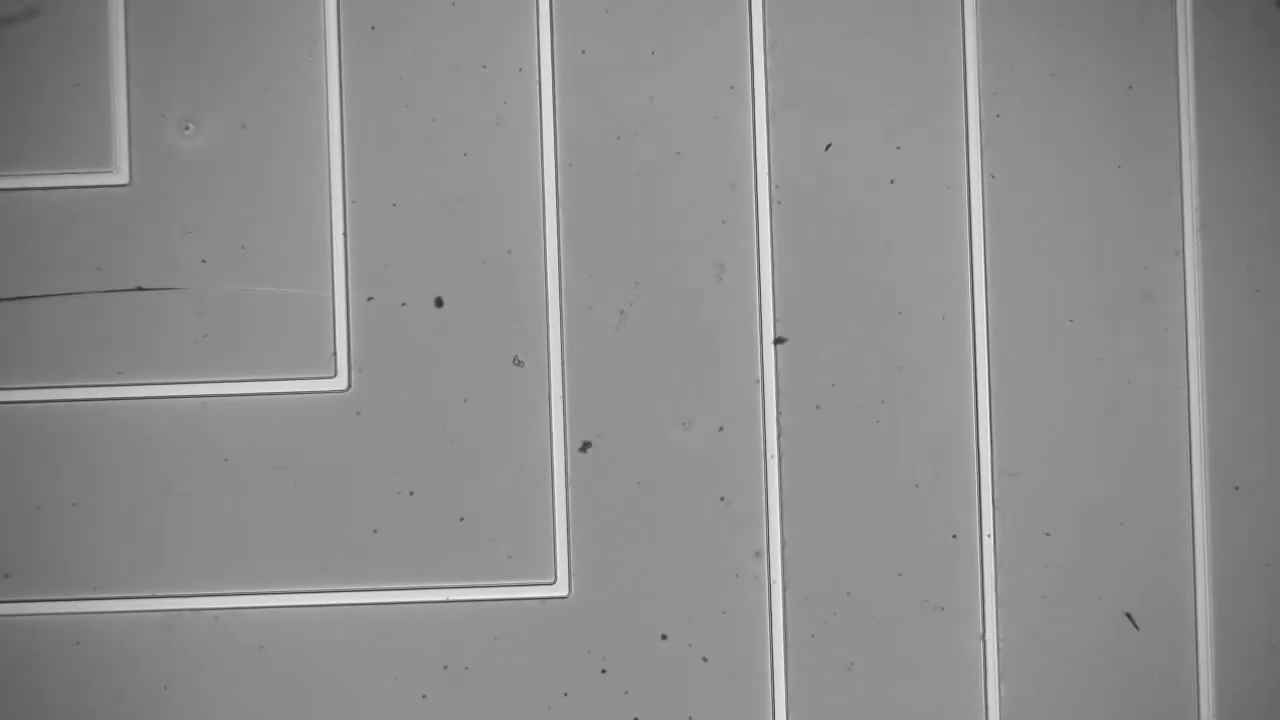scratch: (1, 258, 212, 328), (748, 321, 795, 357)
